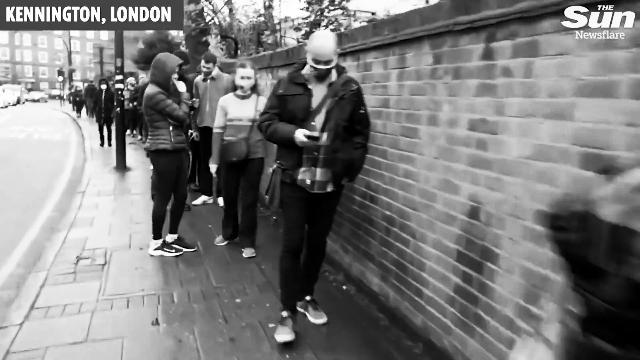berdiri: (130, 47, 200, 272)
